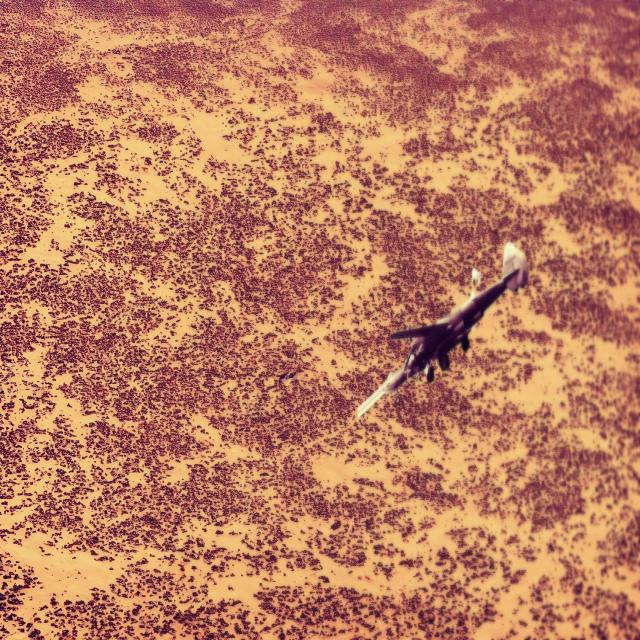airplane: (356, 240, 528, 420)
